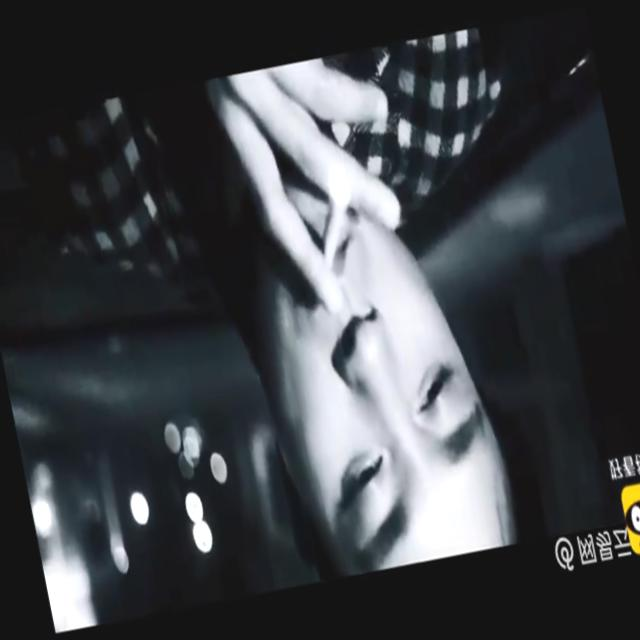smoke: (308, 175, 367, 272)
